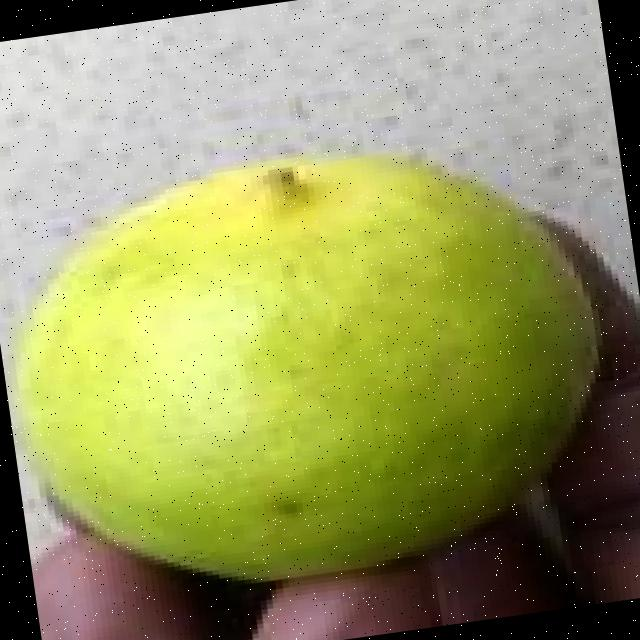Good_Lime-10-21-days: (9, 154, 606, 592)
